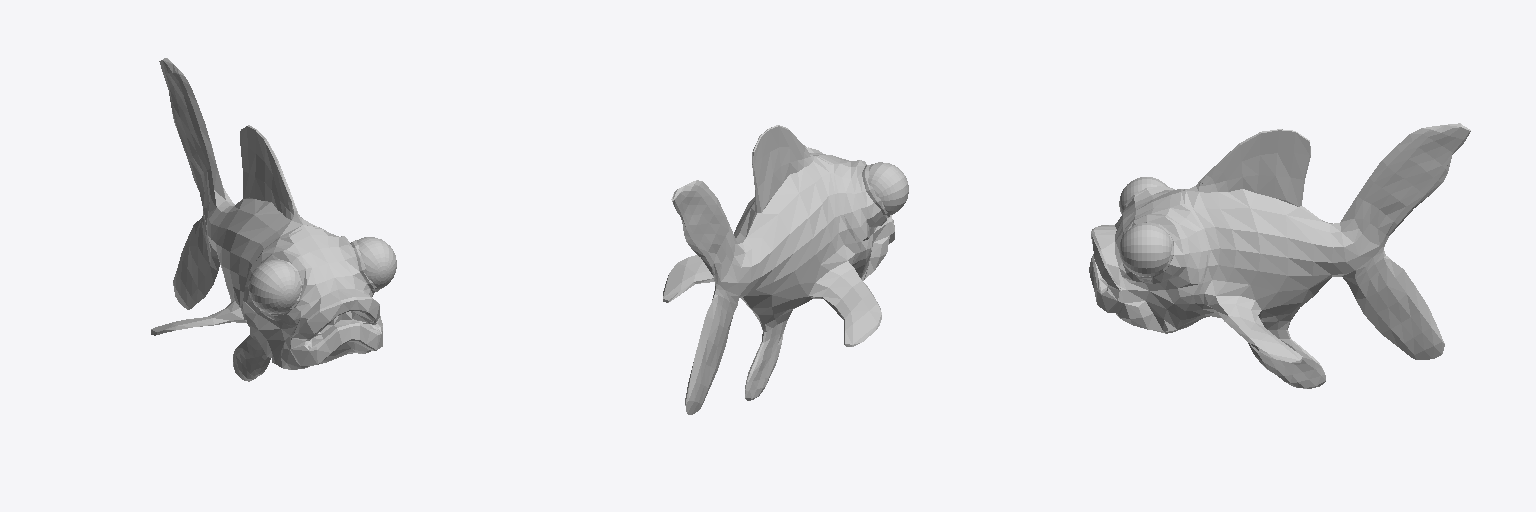
Rendered from FishAlone.obj.
3 views of the same model, side by side, from view 1: azimuth 30°, elevation 25°; view 2: azimuth 150°, elevation 25°; view 3: azimuth 270°, elevation 25° (orthographic).
Parts seen in each view (by area): view 1: FishMesh, RightEye Eyes, Eyes LeftEye; view 2: FishMesh, RightEye Eyes; view 3: FishMesh, Eyes LeftEye, RightEye Eyes.
Boxes of the visible parts, x1=… form: FishMesh: x1=151, y1=58, x2=382, y2=381; RightEye Eyes: x1=248, y1=260, x2=300, y2=313; Eyes LeftEye: x1=357, y1=237, x2=396, y2=289; FishMesh: x1=663, y1=125, x2=894, y2=414; RightEye Eyes: x1=868, y1=162, x2=908, y2=214; FishMesh: x1=1089, y1=123, x2=1470, y2=388; Eyes LeftEye: x1=1119, y1=223, x2=1171, y2=276; RightEye Eyes: x1=1119, y1=177, x2=1167, y2=222.
Bounding box in the file's own units: 7.14 × 8.62 × 11.24.